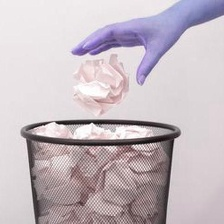tissue: (35, 121, 164, 224), (64, 47, 135, 119)
